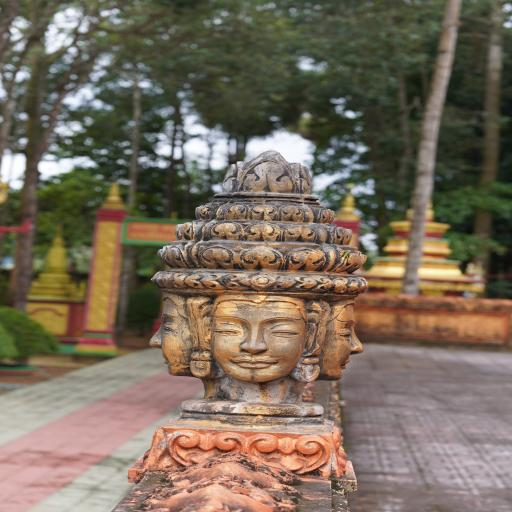la: (235, 427, 336, 479), (169, 425, 246, 473)
than: (136, 120, 372, 434), (196, 284, 306, 379), (308, 290, 376, 382), (148, 292, 202, 376)
